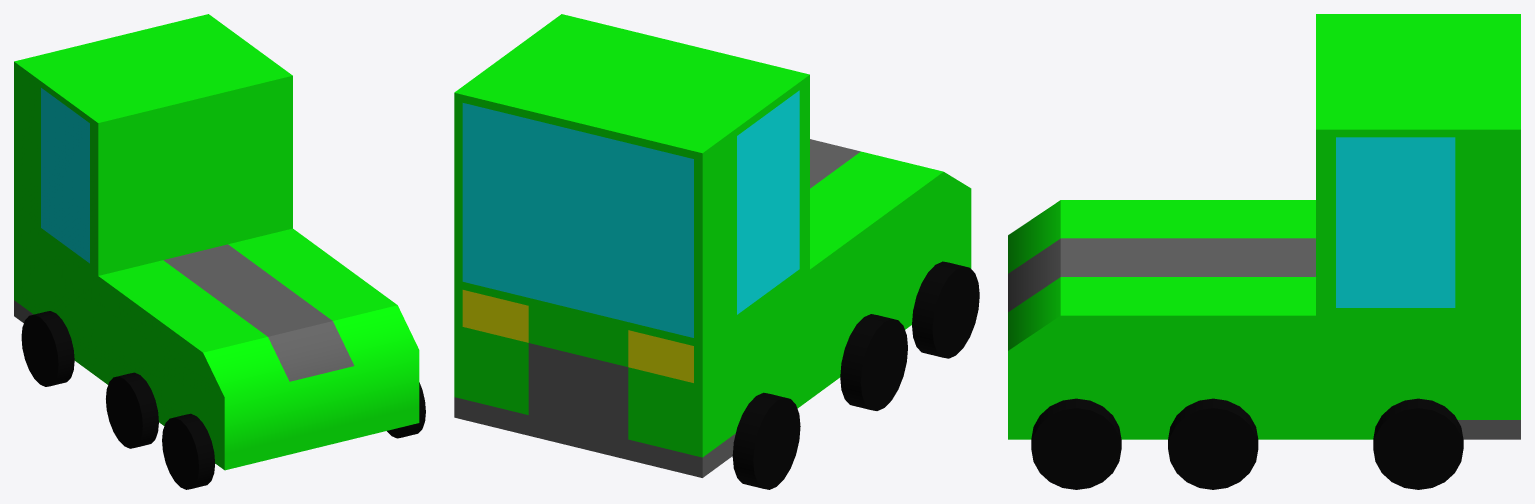
Rendered from Truck.fbx.
The picture shows the model from 3 angles, left to right: view 1: azimuth 30°, elevation 25°; view 2: azimuth 150°, elevation 25°; view 3: azimuth 270°, elevation 25°; orthographic projection. The views are drawn at different scales.
Parts seen in each view (by area): view 1: Body, Wheel2, Wheel6, Wheel1, Wheel5; view 2: Body, Wheel2, Wheel6, Wheel1; view 3: Body, Wheel4, Wheel3, Wheel5.
Part boxes in pixels (left/top/right/bottom): Body: left=14, top=14, right=419, bottom=470; Wheel2: left=106, top=372, right=158, bottom=448; Wheel6: left=21, top=311, right=74, bottom=386; Wheel1: left=162, top=413, right=215, bottom=489; Wheel5: left=387, top=382, right=425, bottom=438; Body: left=454, top=14, right=971, bottom=477; Wheel2: left=840, top=314, right=907, bottom=410; Wheel6: left=732, top=392, right=800, bottom=489; Wheel1: left=912, top=261, right=979, bottom=358; Body: left=1008, top=14, right=1520, bottom=439; Wheel4: left=1168, top=398, right=1258, bottom=489; Wheel3: left=1373, top=398, right=1463, bottom=489; Wheel5: left=1031, top=398, right=1121, bottom=489.
Size of the model in its own units: 4.66 by 5.66 by 7.5.
